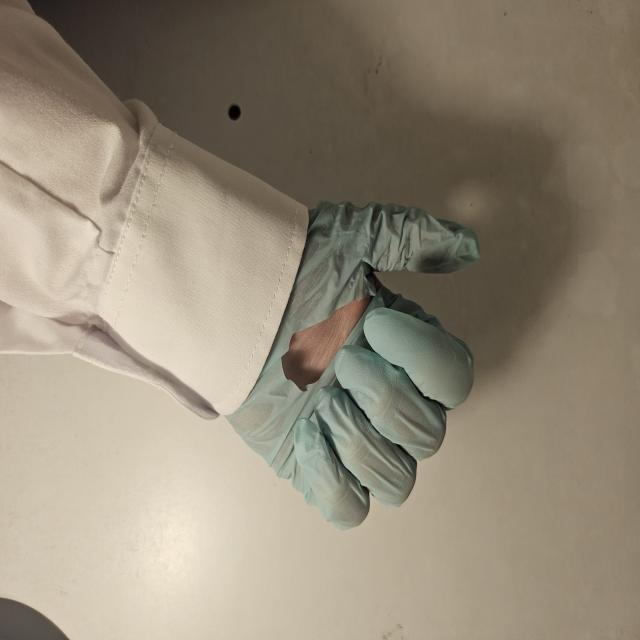gloves_damaged: (222, 196, 486, 528)
